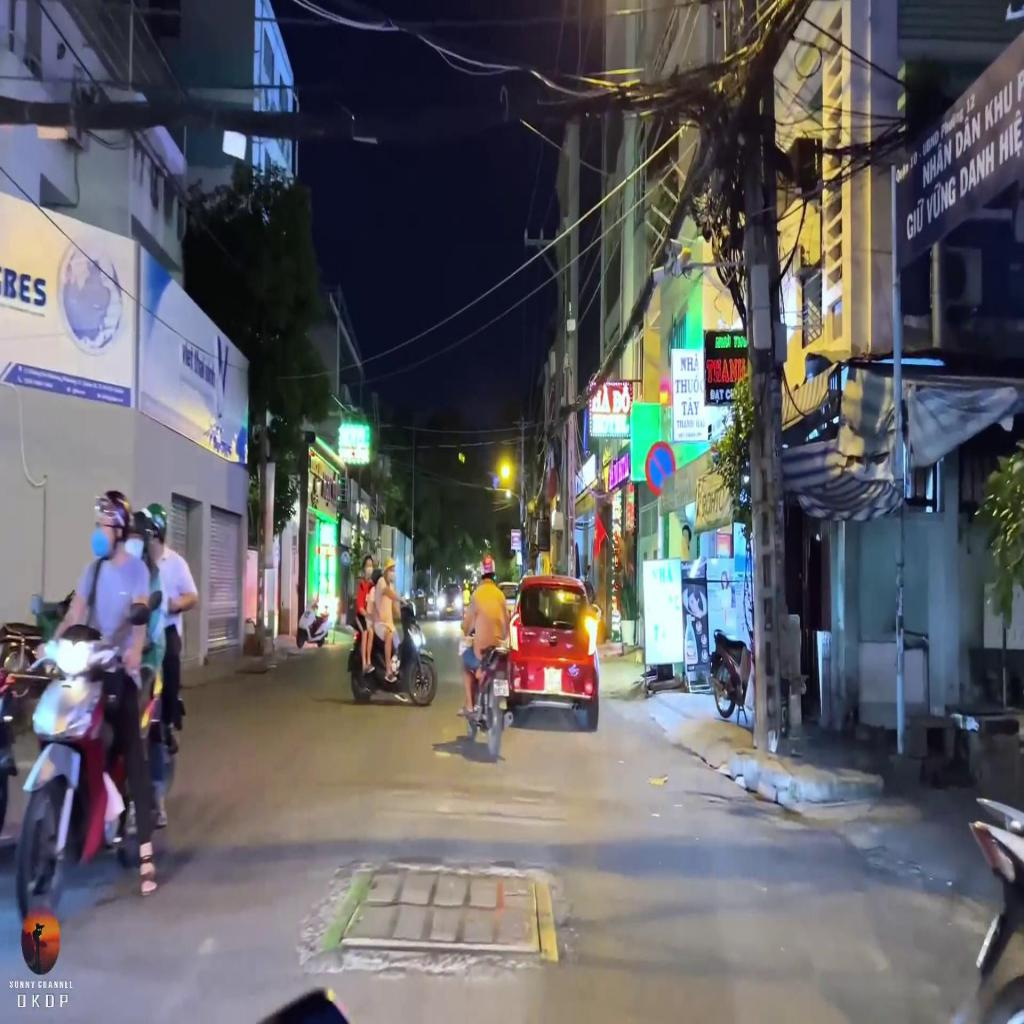cam_do_xe: (645, 439, 676, 497)
